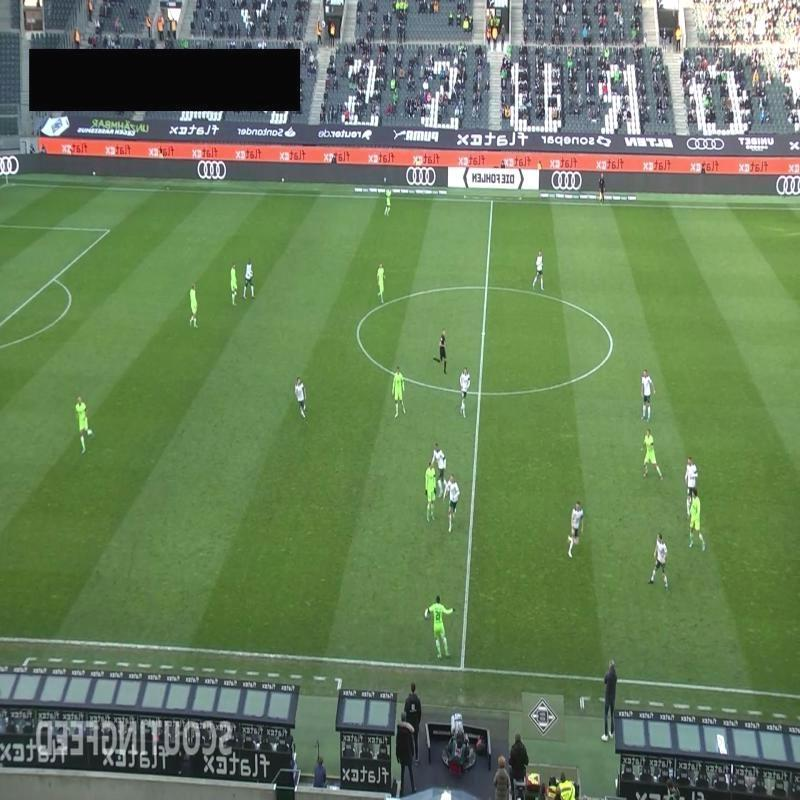1: (0, 175, 16, 192)
10: (45, 270, 62, 290)
13: (486, 193, 500, 207)
14: (480, 280, 494, 294)
15: (472, 384, 488, 400)
16: (450, 657, 474, 680)
9: (102, 222, 116, 237)
c: (604, 332, 620, 356), (349, 320, 366, 341)
